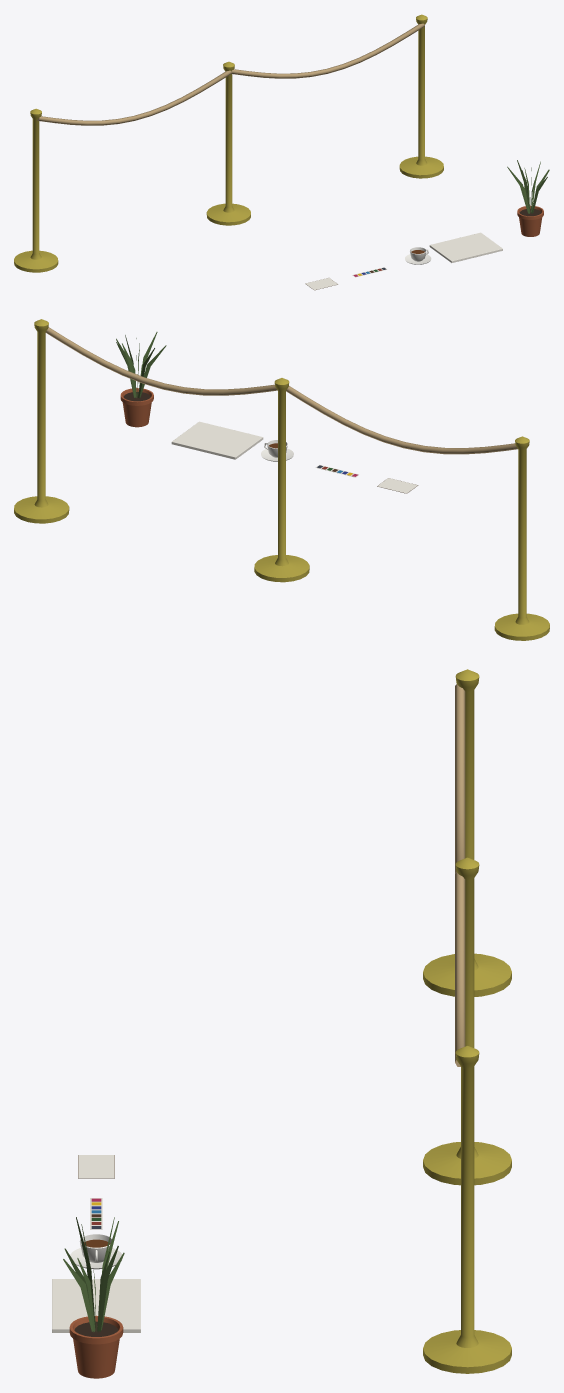
Rendered from props.glb.
The picture shows the model from 3 angles, top to bottom: view 1: azimuth 30°, elevation 25°; view 2: azimuth 150°, elevation 25°; view 3: azimuth 270°, elevation 25°; orthographic projection. The views are drawn at different scales.
Parts seen in each view (by area): view 1: RopeRail, PaperStack, Plant, Plant_Pot; view 2: RopeRail, PaperStack, Plant_Pot, Plant; view 3: RopeRail, PaperStack, Plant_Pot, Plant, ScoreCard_Front.
Part boxes in pixels (box(x1,y1,x2,y2)): RopeRail: box(14, 14, 443, 272); PaperStack: box(429, 232, 502, 262); Plant: box(507, 160, 549, 213); Plant_Pot: box(517, 205, 543, 236); RopeRail: box(14, 319, 549, 640); PaperStack: box(171, 421, 263, 459); Plant_Pot: box(120, 388, 153, 427); Plant: box(116, 332, 166, 398); RopeRail: box(423, 669, 511, 1373); PaperStack: box(52, 1279, 140, 1332); Plant_Pot: box(69, 1315, 123, 1378); Plant: box(63, 1217, 124, 1332); ScoreCard_Front: box(78, 1155, 114, 1178).
Bounding box in the file's own units: 2.73 × 0.92 × 1.24.
